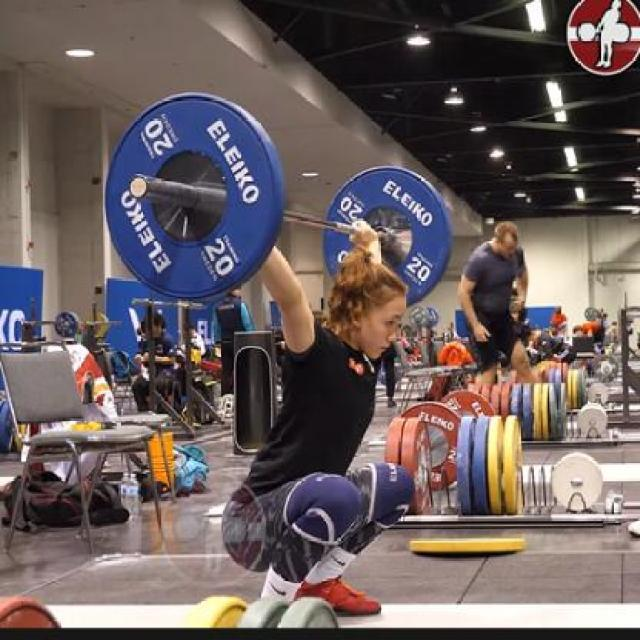Barbell: (128, 172, 154, 202)
